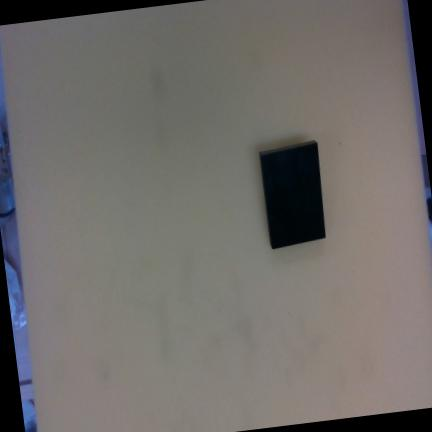tile: (259, 142, 326, 250)
